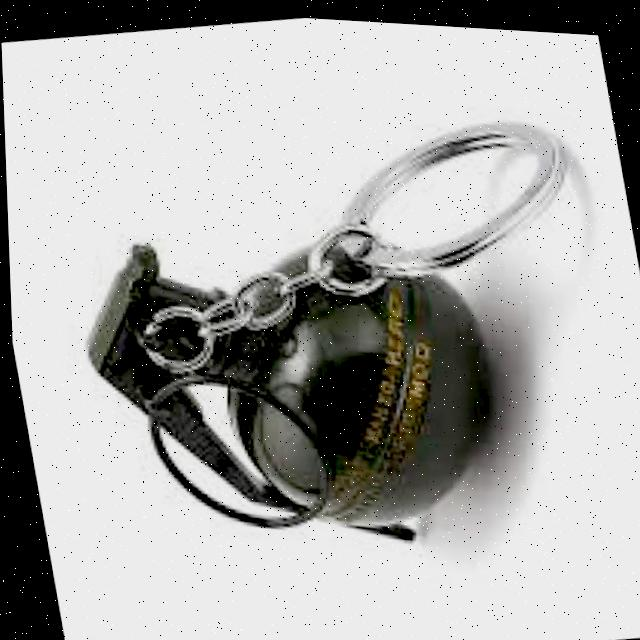grenade: (0, 1, 640, 637)
